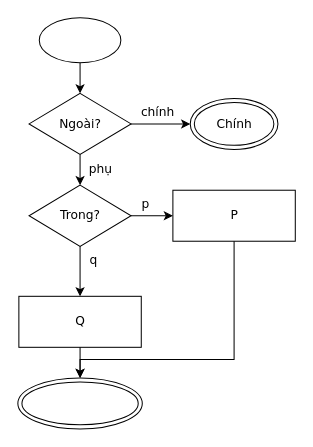
Some shapes in this 313 by 447 pixel diagram are drawn without their labels. Here are the shapes that lost their labels. From the top down, the centre of each, then its label:
At pixel 79 40: "Vào".
At pixel 79 403: "Hợp trong".
